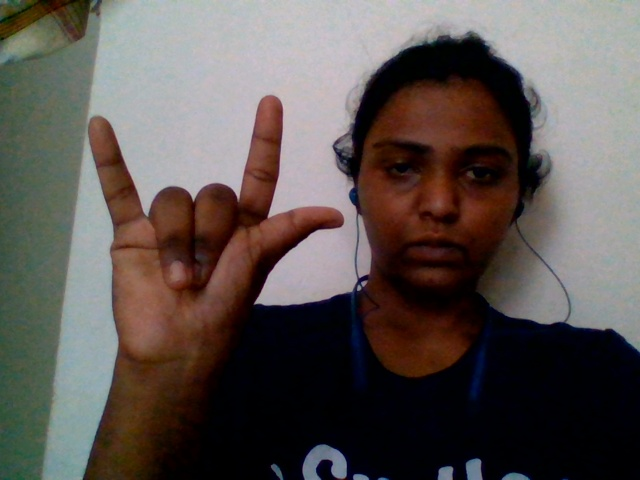IloveYou: (61, 67, 353, 367)
